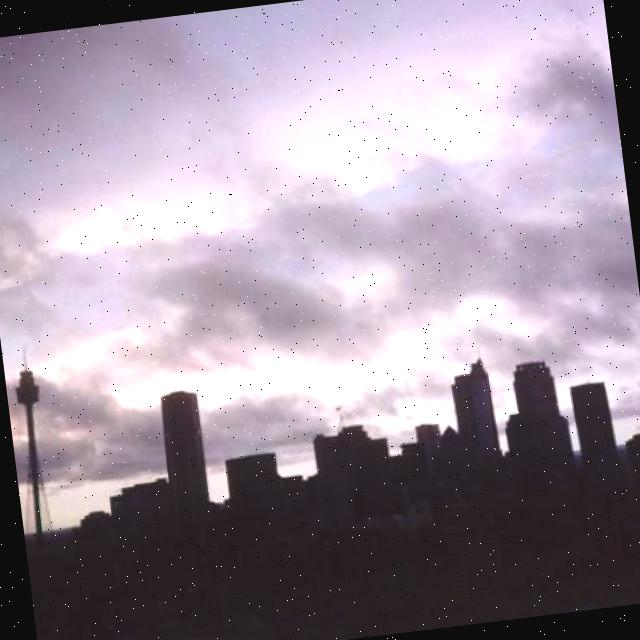St: (1, 1, 638, 358)
